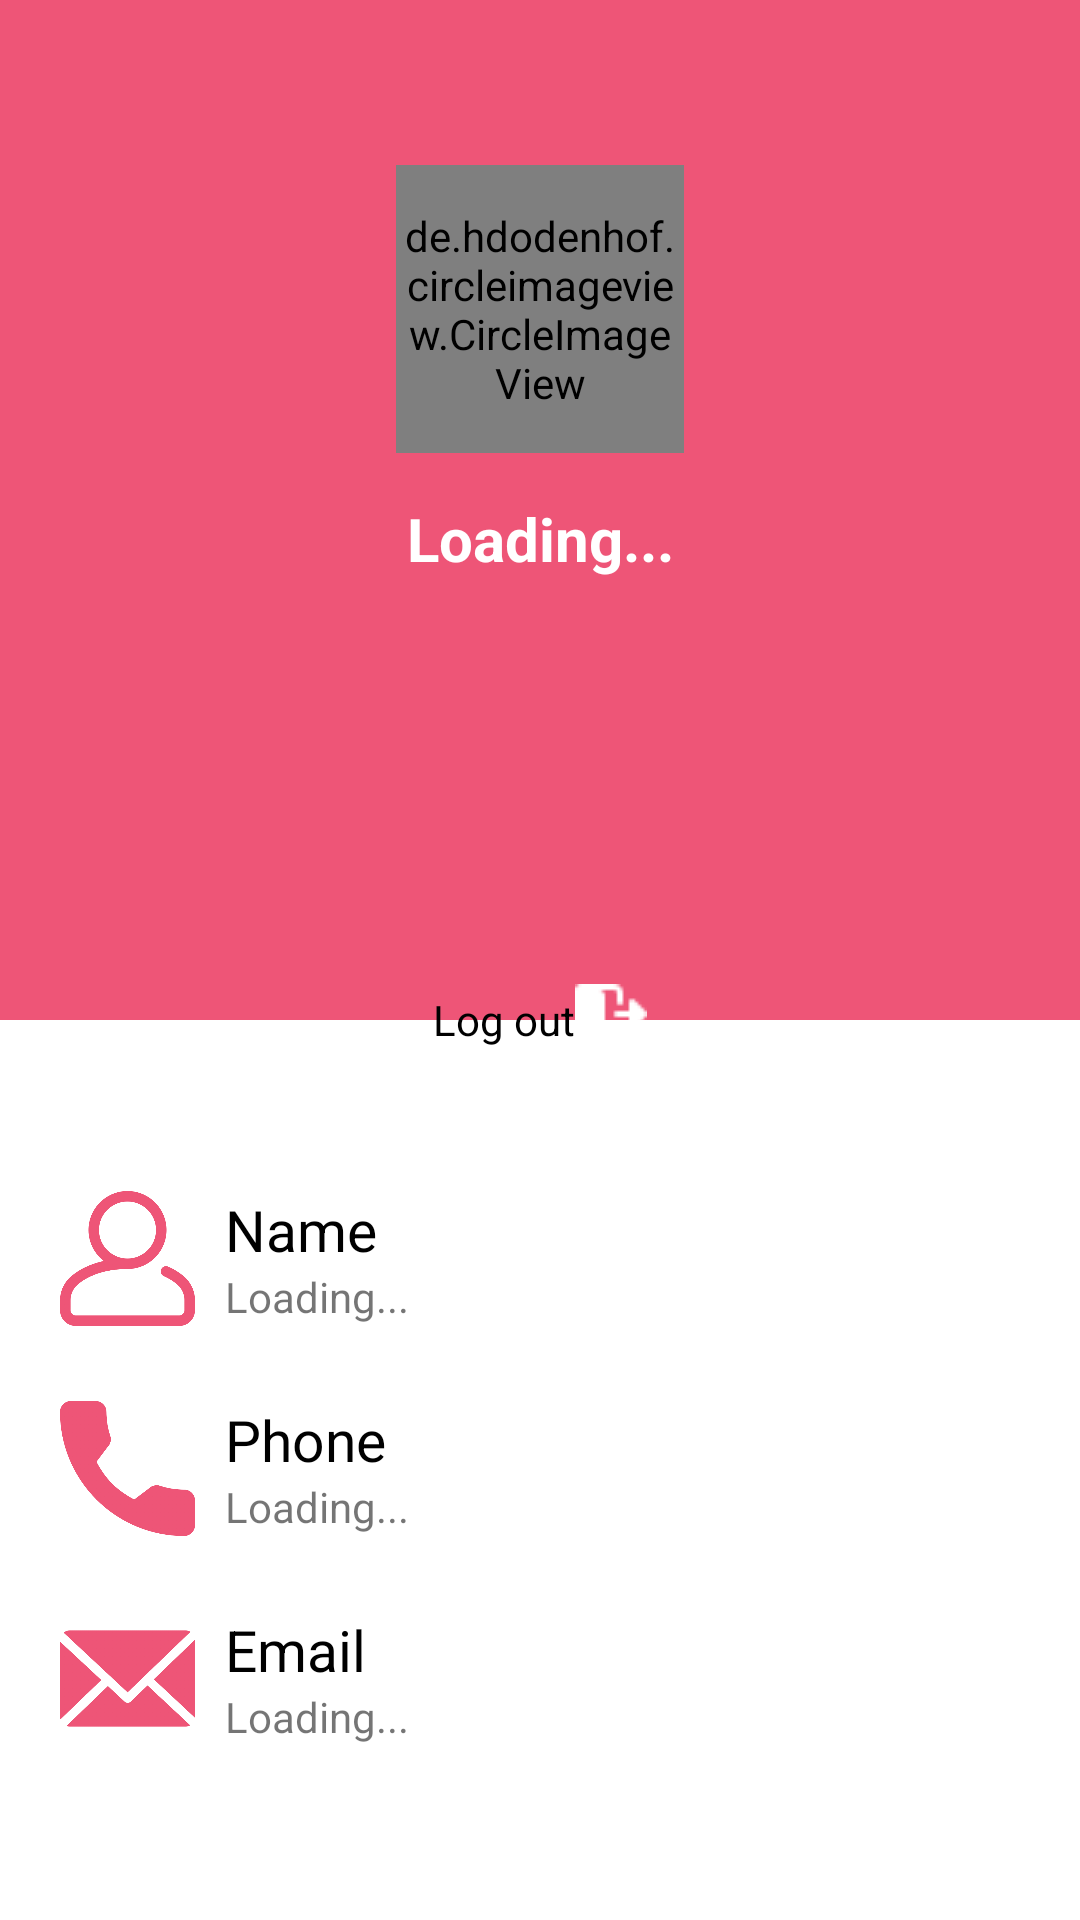

Icons on this 1080px×1920px Android screen, each with its box as [x1, y1, x2, y2]:
call: [60, 1401, 195, 1536]
users: [60, 1191, 195, 1326]
